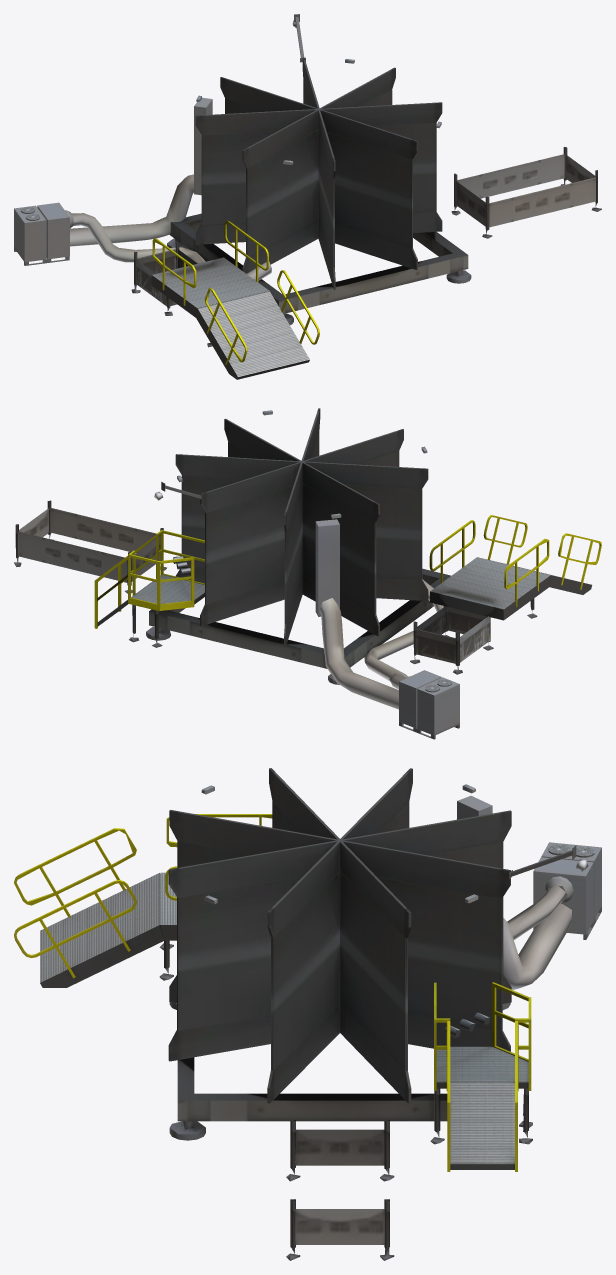
Rendered from habitatInterior.glb.
The picture shows the model from 3 angles, top to bottom: view 1: azimuth 30°, elevation 25°; view 2: azimuth 150°, elevation 25°; view 3: azimuth 270°, elevation 25°; orthographic projection. The views are drawn at different scales.
Visible parts, largest first — view 1: HDU_lowRez_part2; view 2: HDU_lowRez_part2; view 3: HDU_lowRez_part2.
Boxes of the visible parts, bbox=[...] form: HDU_lowRez_part2: bbox=[14, 14, 601, 379]; HDU_lowRez_part2: bbox=[14, 408, 601, 739]; HDU_lowRez_part2: bbox=[14, 768, 601, 1260].
Size of the model in its own units: 656 by 226 by 459.
1 material, 1 textured.
